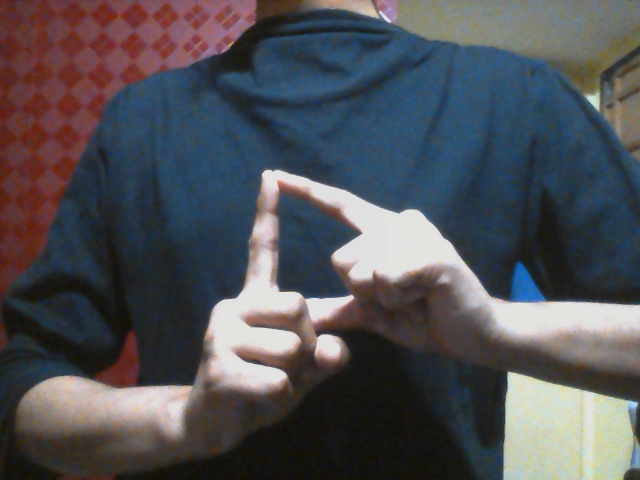D: (193, 169, 473, 446)
